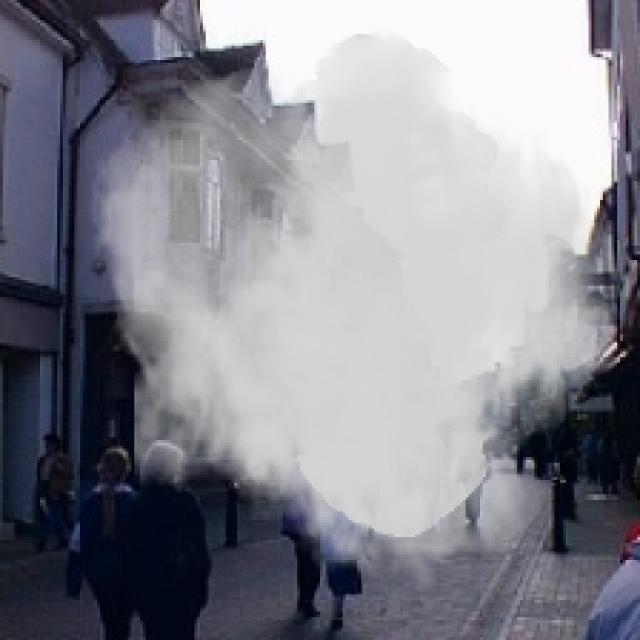smoke: (85, 32, 626, 594)
